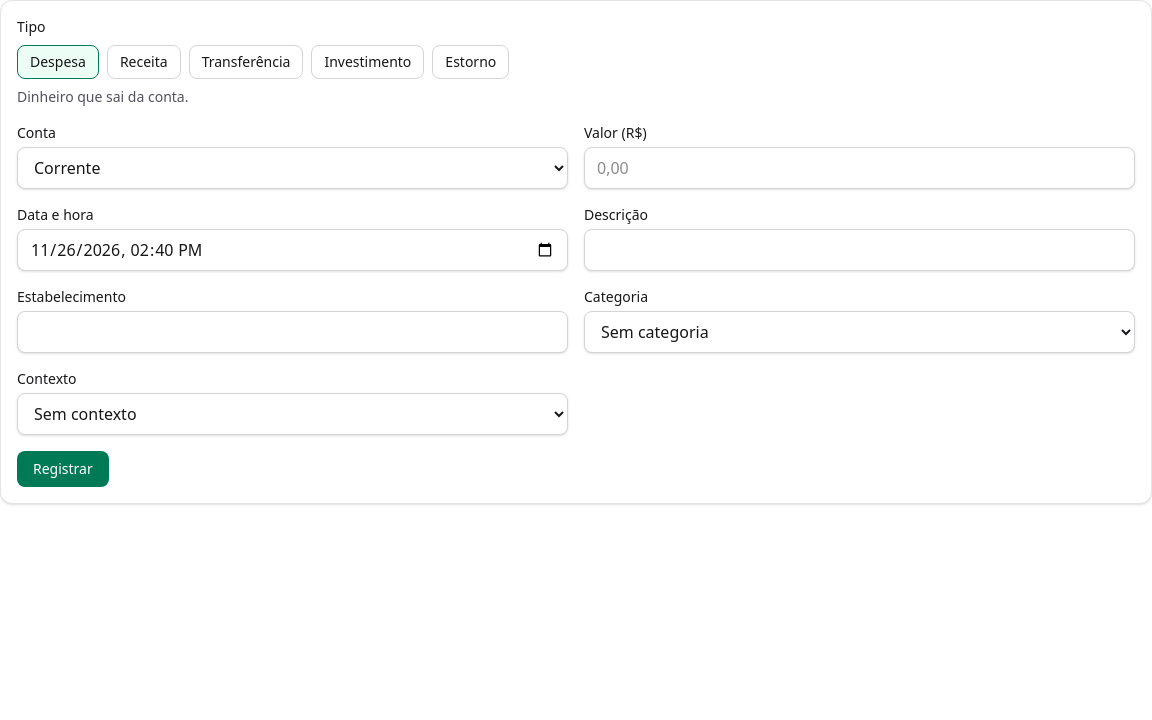
Test: TransactionForm › despesa não pede conta de destino; transferência e investimento pedem
Check: the field labelled "Conta de destino" is not shown
Click the radio button labelled "Transferência": (246, 62) [189,45,303,79]
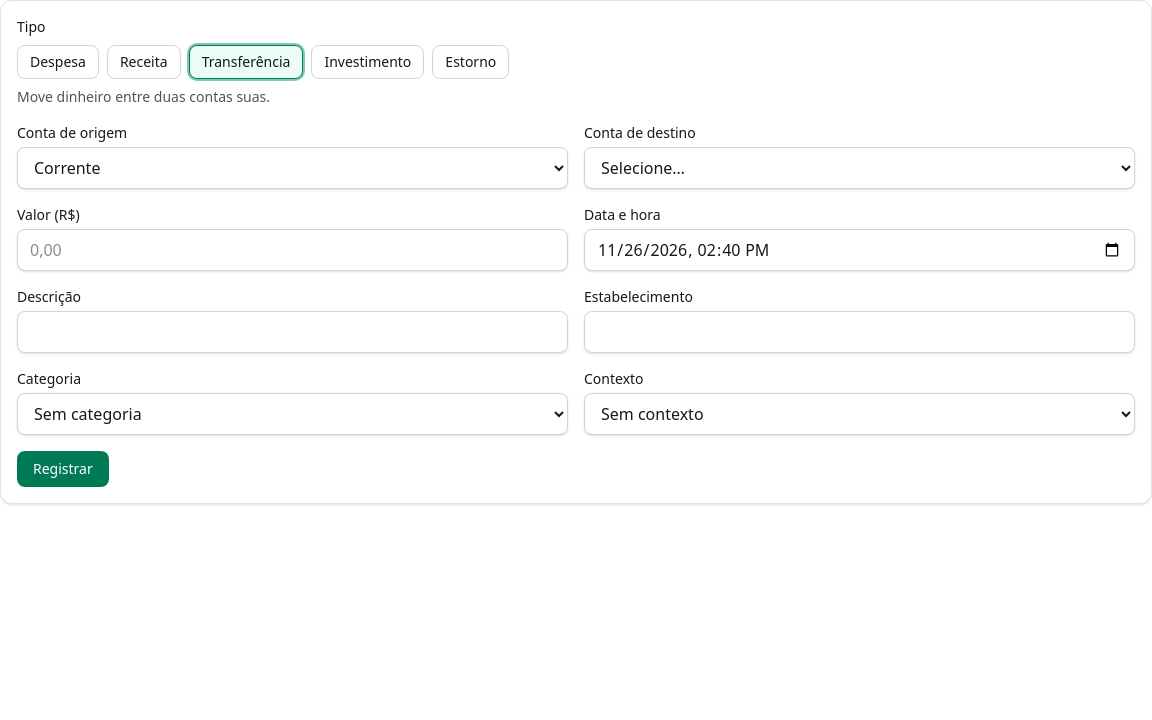
Check: the dropdown labelled "Conta de origem" is shown, box [17,147,568,189]
Check: the dropdown labelled "Conta de destino" is shown, box [584,147,1135,189]
Click the radio button labelled "Receita": (144, 62) [107,45,181,79]
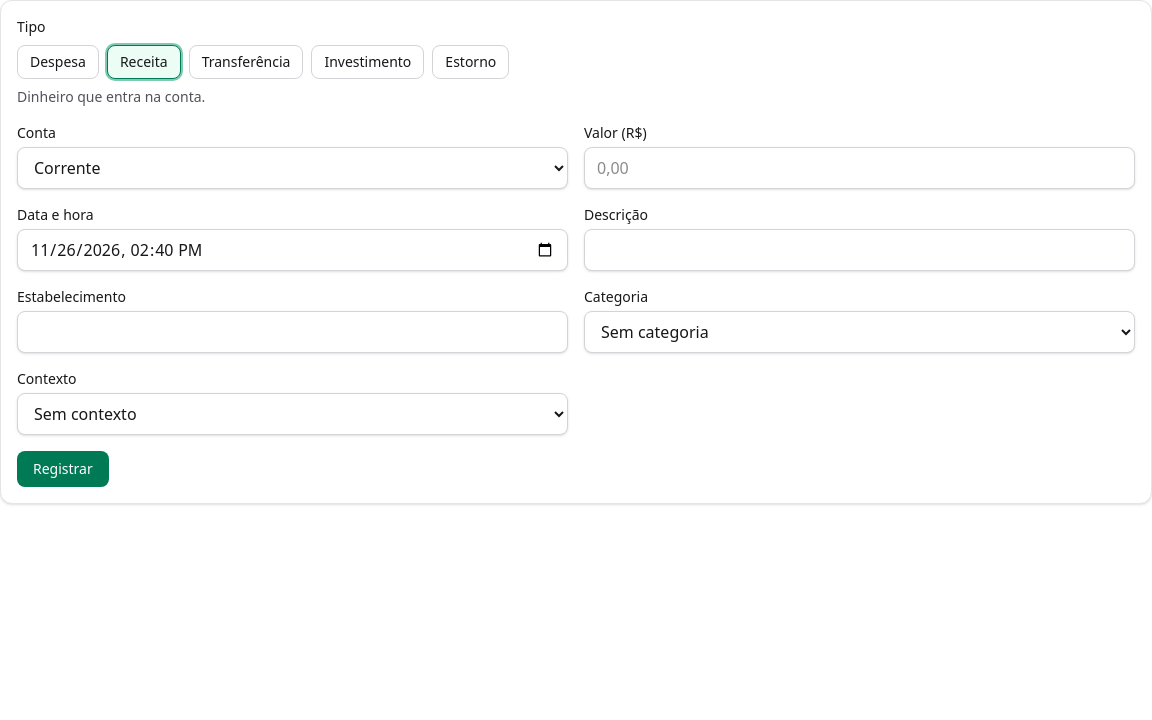
Check: the label labelled "Conta de destino" is gone
